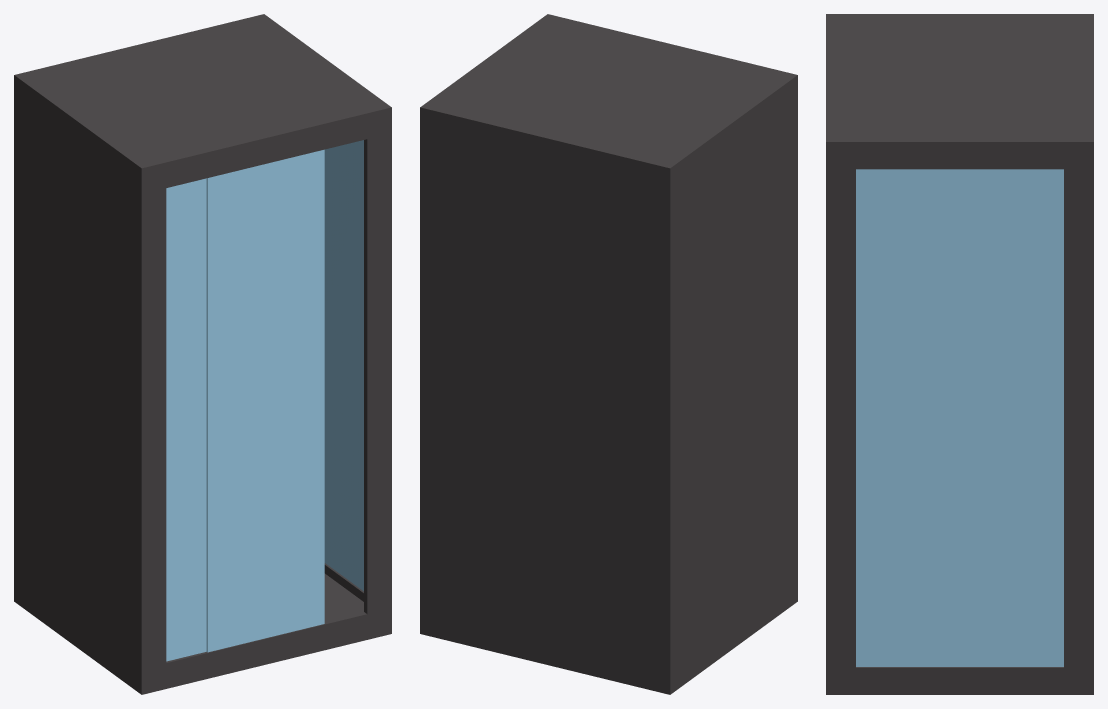
The model's file is SM_Shower_2_01.fbx.
3 renders of one model, left to right at view 1: azimuth 30°, elevation 25°; view 2: azimuth 150°, elevation 25°; view 3: azimuth 270°, elevation 25°, orthographic. The views are drawn at different scales.
Visible parts, largest first — view 1: SM_Shower_2_01; view 2: SM_Shower_2_01; view 3: SM_Shower_2_01.
Part boxes in pixels (x1=…): SM_Shower_2_01: x1=14, y1=14, x2=391, y2=694; SM_Shower_2_01: x1=420, y1=14, x2=797, y2=694; SM_Shower_2_01: x1=826, y1=14, x2=1093, y2=694.
Bounding box in the file's own units: 135 × 272 × 119.
